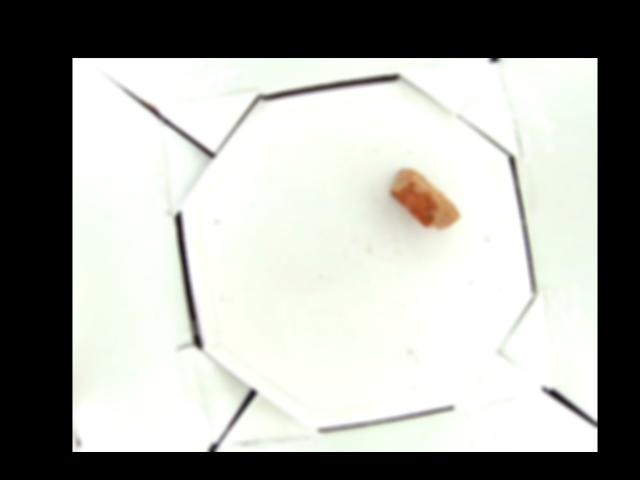Brisk: (389, 168, 461, 229)
